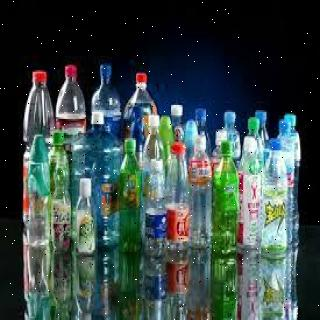Plastic-bottle: (23, 69, 58, 248), (91, 122, 128, 251), (278, 113, 305, 249), (263, 138, 291, 264), (118, 139, 146, 256), (214, 143, 242, 260), (50, 129, 74, 262), (123, 68, 159, 150), (145, 153, 172, 262), (167, 139, 192, 255), (239, 134, 263, 253), (91, 62, 123, 150), (192, 134, 214, 253), (57, 64, 88, 141), (217, 110, 243, 159), (171, 99, 185, 146)
